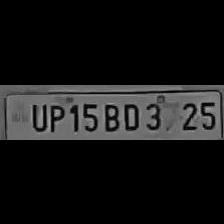1: (64, 100, 80, 132)
2: (176, 98, 198, 130)
3: (142, 99, 164, 130)
5: (78, 99, 100, 131), (197, 97, 217, 129)
B: (100, 99, 120, 131)
D: (120, 99, 140, 130)
P: (46, 100, 64, 132)
U: (27, 100, 47, 132)
